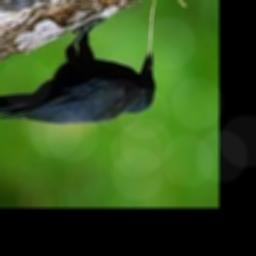Crow: (0, 19, 156, 125)
